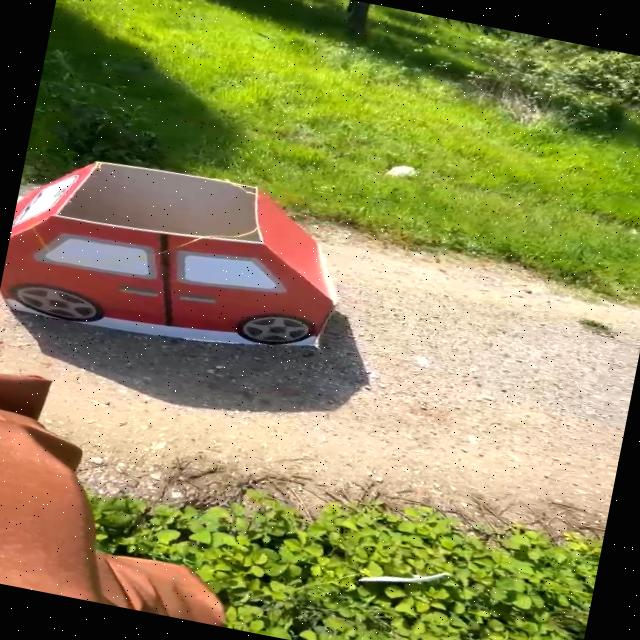red_car: (0, 131, 373, 411)
